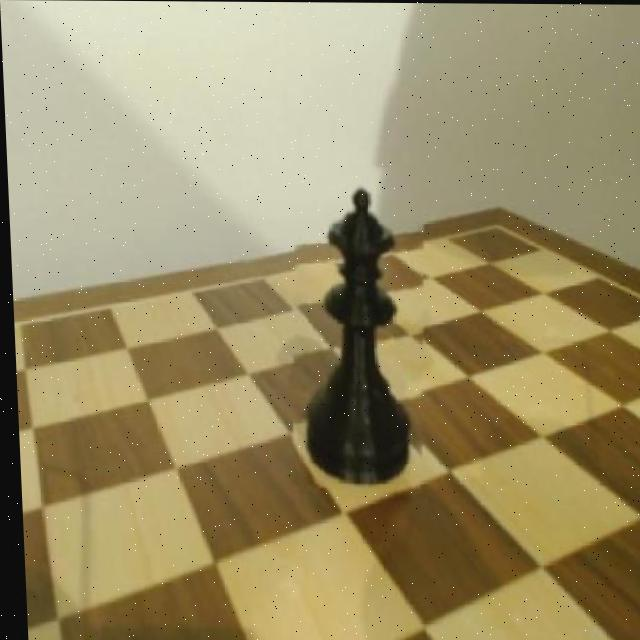black-pawn: (281, 160, 430, 494)
